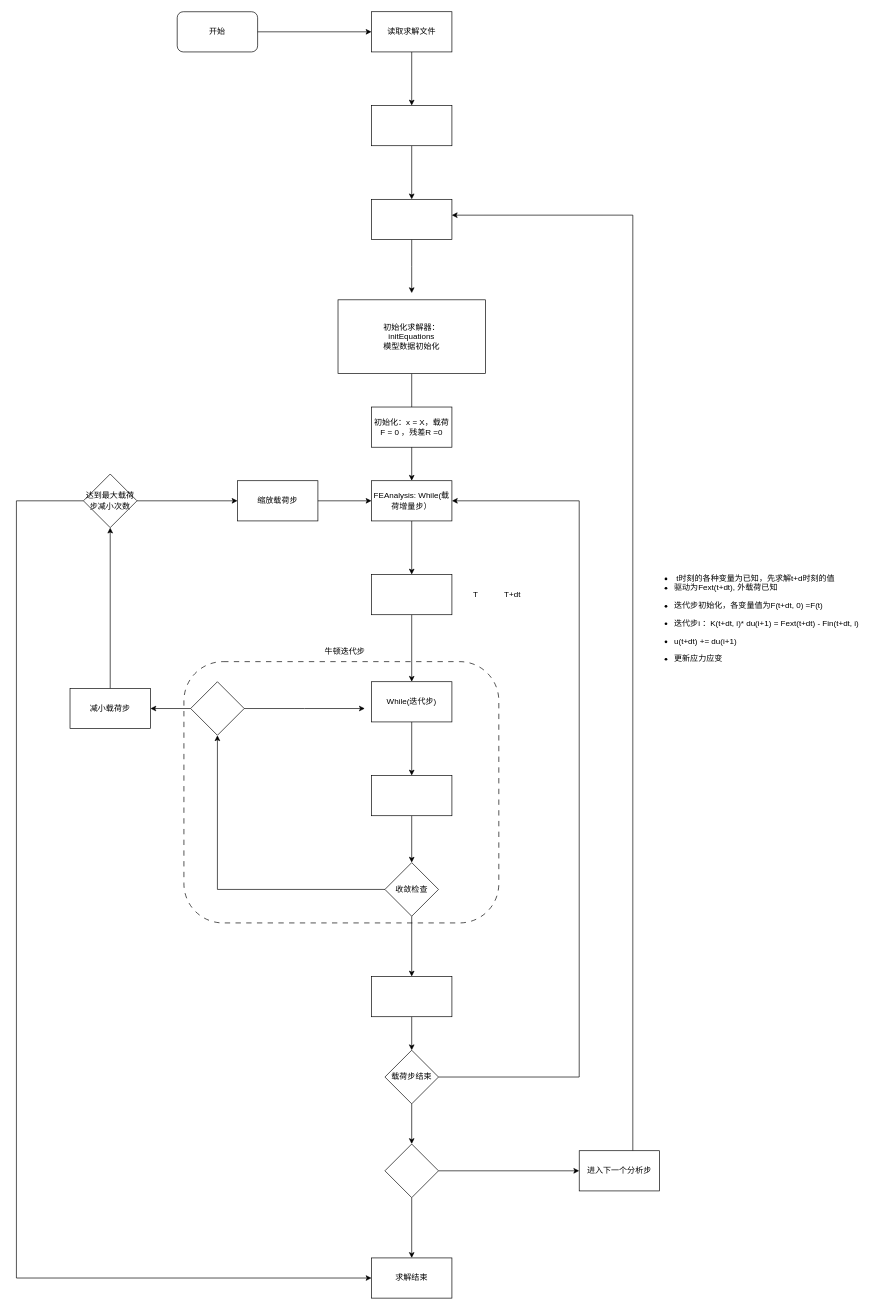
This 892x1310 diagram has some shape labels left out. Each missing label, with the centre of its shape:
"FEModel : Loop 分析步" goes at pixel 411 219.
"InitStep(初始化载荷增量步)" goes at pixel 411 594.
"分析步结束" goes at pixel 411 1170.
"实例化求解模型" goes at pixel 411 125.
"当前载荷步求解完毕" goes at pixel 411 996.
"是否达到最大迭代步" goes at pixel 217 708.
"迭代步求解" goes at pixel 411 795.
